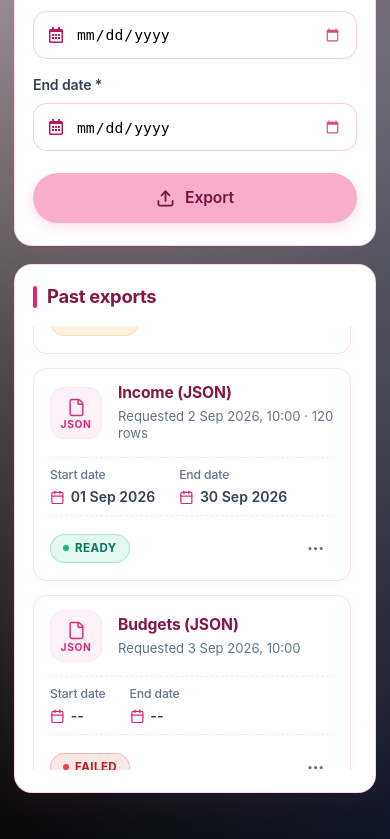
Scenario: DataExport -- past exports list › opens the actions menu on clicking the 3-dots button
(page scrolled)
# Open ready request's menu (second item)
Click the button named "export actions" below "2 Sep 2026, 10:00" at coordinates (316, 548), box [298,530,334,566]
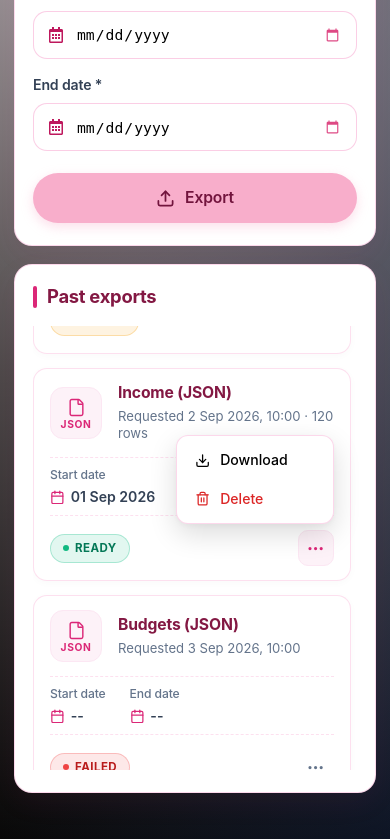
Check: the menu item "Download" is shown, box [183,442,327,479]
Check: the menu item "Delete" is shown, box [183,481,327,517]
